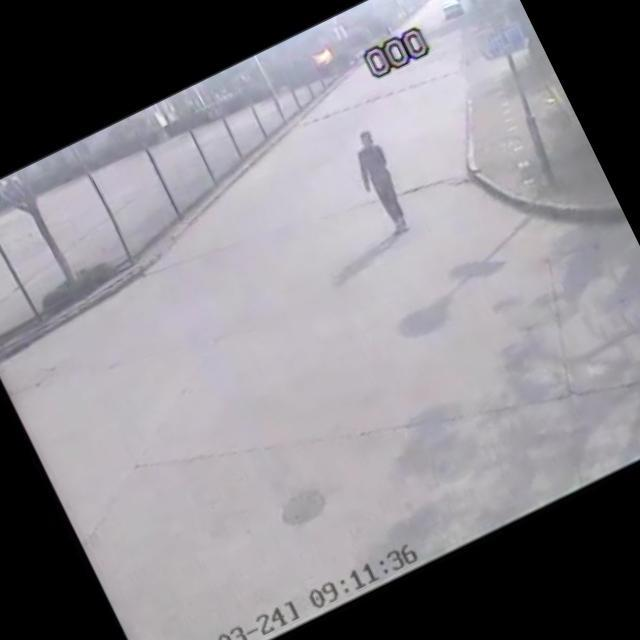person: (333, 110, 430, 248)
